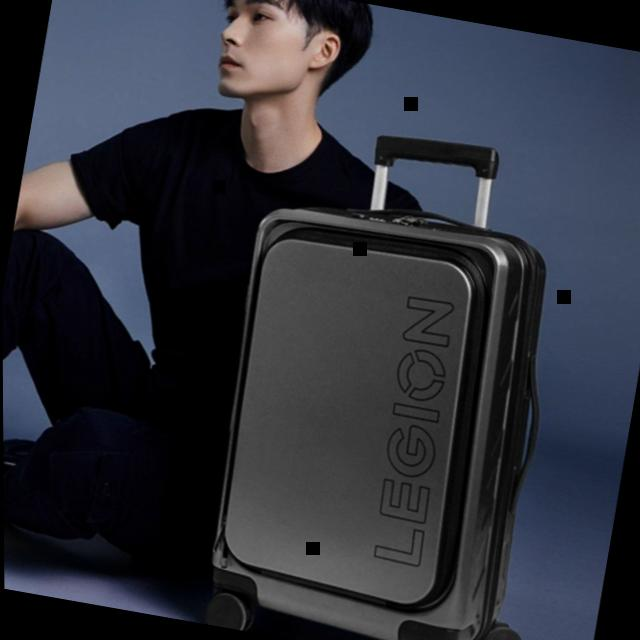luggage: (178, 177, 575, 640)
